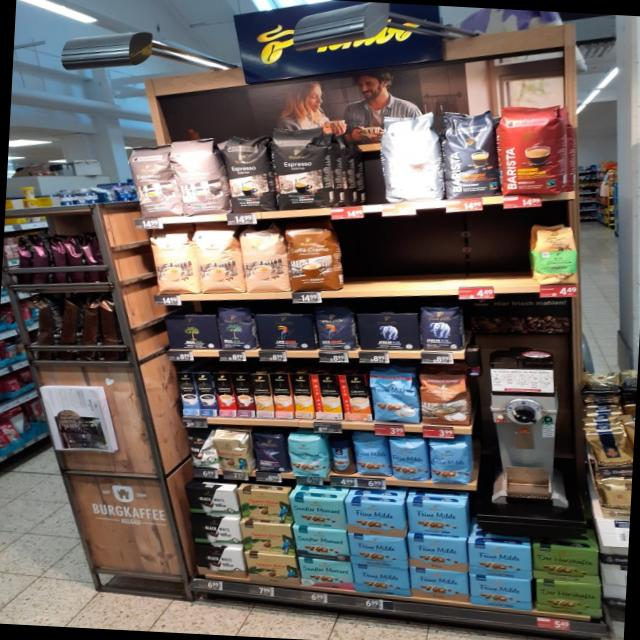AB Bohne: (419, 303, 467, 351)
AB Gemahlen: (356, 311, 421, 352)
Athiopien Bohne: (529, 224, 580, 286)
BM Bohne: (215, 303, 257, 351)
BM Gemahlen: (164, 312, 221, 350)
BW Bohne: (185, 429, 221, 470)
BW Gemahlen: (184, 483, 242, 520), (191, 544, 249, 579), (189, 513, 243, 550)
Barista CC: (379, 109, 446, 203)
Barista Espresso: (439, 105, 499, 199)
Barista Kolumbien: (497, 103, 565, 198)
C Fino Bohne: (250, 431, 290, 474)
CC Mild: (144, 227, 201, 295), (190, 225, 245, 294), (238, 224, 290, 293)
CC Vollmundig: (418, 369, 472, 427)
CC Vollmundig 36 Pads: (281, 220, 345, 294)
Colombia BB Bohne: (212, 431, 253, 474)
Colombia BB Gemahlen: (237, 487, 296, 525), (244, 550, 300, 586), (241, 520, 297, 556)
Empty Shelf: (343, 210, 530, 290)
Espresso Aromatisch: (166, 134, 230, 217), (122, 143, 182, 218)
Espresso Kraftig: (270, 125, 336, 211), (217, 131, 277, 214)
FM 36 Pads: (369, 368, 421, 425)
FM Bohne: (428, 440, 473, 486), (387, 437, 430, 483), (351, 431, 392, 478)
FM Gemahlen: (406, 499, 471, 539), (468, 540, 532, 580), (470, 573, 532, 611), (408, 534, 468, 573), (346, 499, 406, 538), (347, 533, 409, 570), (409, 565, 469, 603), (353, 563, 412, 598)
FM Instant: (328, 437, 356, 477)
Herzhatfe Mundig: (533, 543, 602, 586), (535, 579, 602, 619)
LG Bohne: (313, 305, 356, 352)
LG Gemahlen: (253, 311, 319, 352)
SM Bohne: (287, 434, 329, 478)
SM Gemahlen: (293, 525, 351, 563), (289, 495, 349, 531), (298, 556, 356, 591)
Simo CCMild: (310, 373, 344, 420)
Simo CCMild bigpack: (290, 372, 315, 419)
Simo CCVollmundig: (339, 374, 373, 421)
Simo CCVollmundig bigpack: (269, 373, 294, 419)
Simo Decaff: (250, 373, 275, 418)
Simo Es Brazil: (213, 372, 237, 416)
Simo Es Caramel: (232, 372, 256, 418)
Simo Es Kraft: (194, 372, 218, 416)
Simo Es Vanilla: (176, 372, 200, 416)
